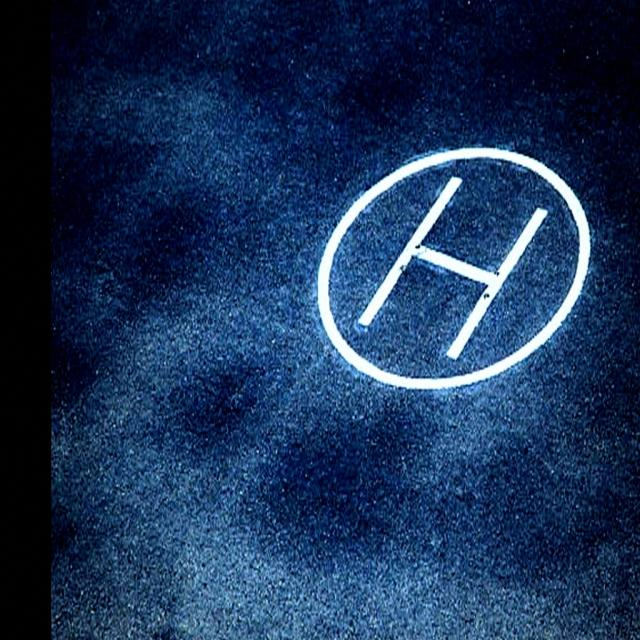helipad: (310, 139, 595, 395)
